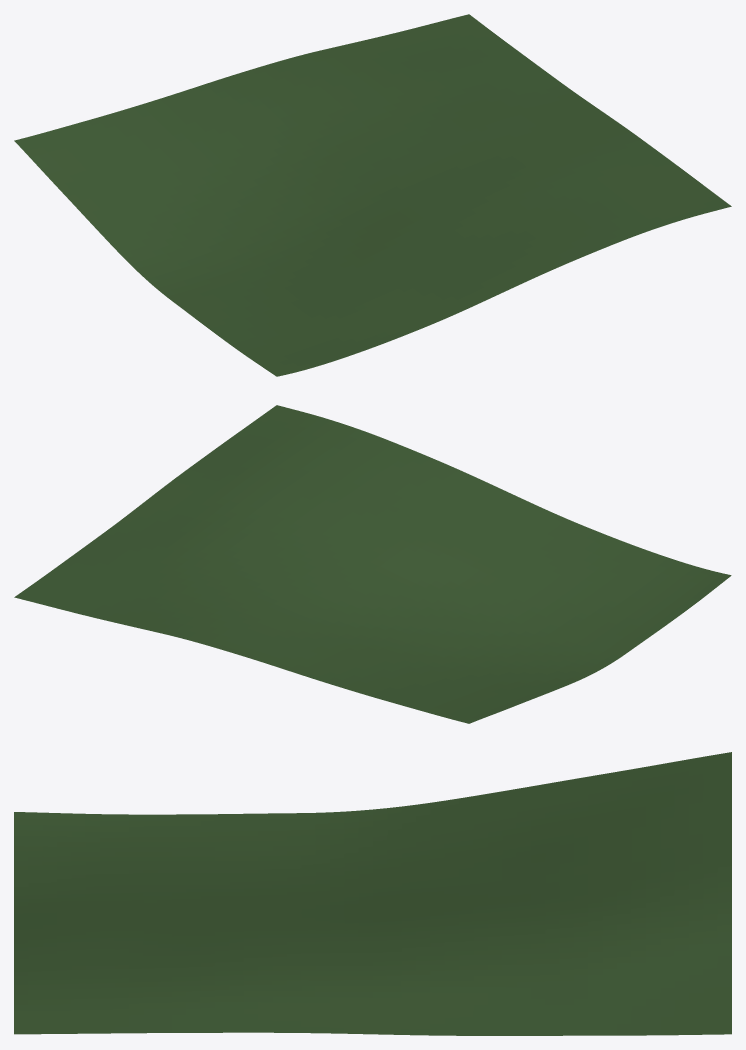
Rendered from chunk5-9_LOD0.obj.
The picture shows the model from 3 angles, top to bottom: view 1: azimuth 30°, elevation 25°; view 2: azimuth 150°, elevation 25°; view 3: azimuth 270°, elevation 25°; orthographic projection. The views are drawn at different scales.
Parts seen in each view (by area): view 1: Terrain; view 2: Terrain; view 3: Terrain.
Part boxes in pixels (x1,y1,x2,y2): Terrain: (14,14,731,376); Terrain: (14,405,731,723); Terrain: (14,752,731,1035).
Bounding box in the file's own units: 4000 × 526 × 4000.
